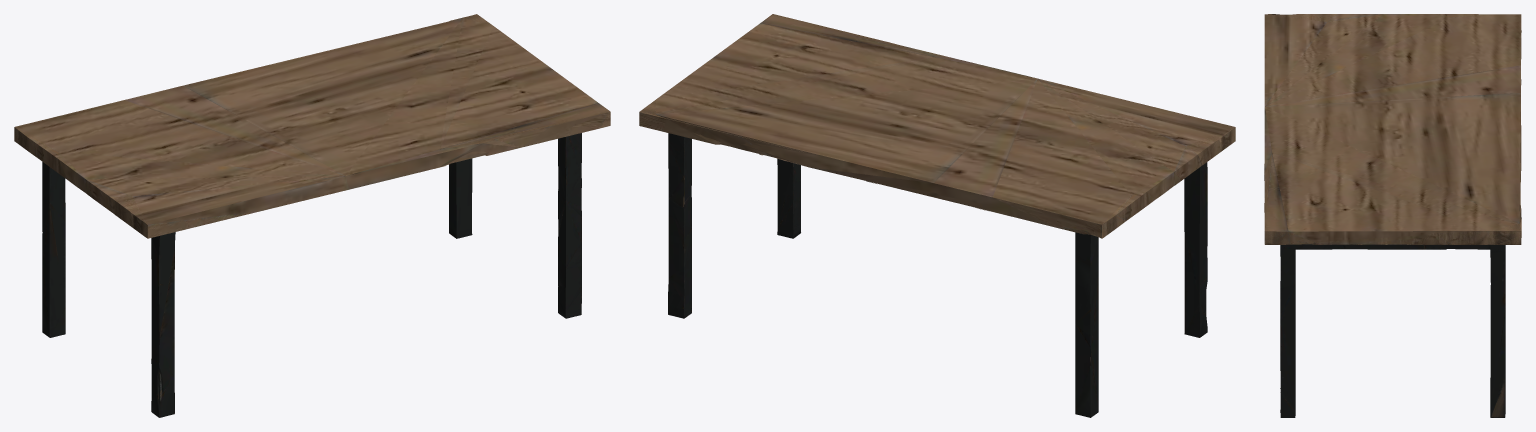
Rendered from dining_table_wood.glb.
The picture shows the model from 3 angles, left to right: view 1: azimuth 30°, elevation 25°; view 2: azimuth 150°, elevation 25°; view 3: azimuth 270°, elevation 25°; orthographic projection. The views are drawn at different scales.
Parts seen in each view (by area): view 1: 0; view 2: 0; view 3: 0.
Boxes of the visible parts, x1=… form: 0: x1=14, y1=14, x2=610, y2=417; 0: x1=639, y1=14, x2=1235, y2=417; 0: x1=1264, y1=14, x2=1521, y2=417.
Bounding box in the file's own units: 1.8 × 0.76 × 0.9.
1 material, 1 textured.
